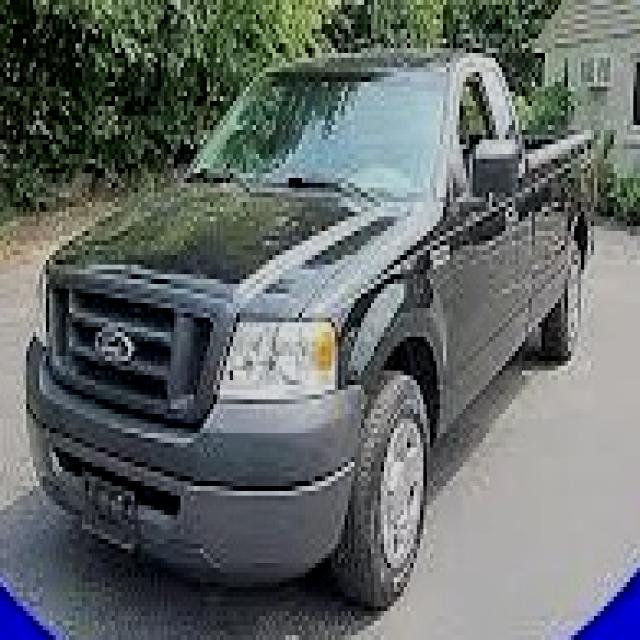CMT: (24, 54, 612, 586)
